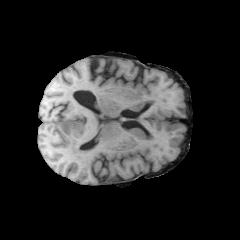glioma: (61, 115, 100, 171)
